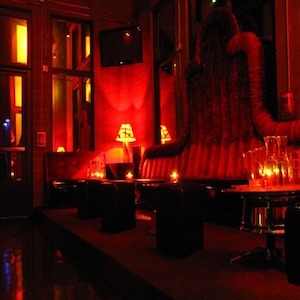fire: (249, 153, 293, 189), (110, 125, 134, 149)
